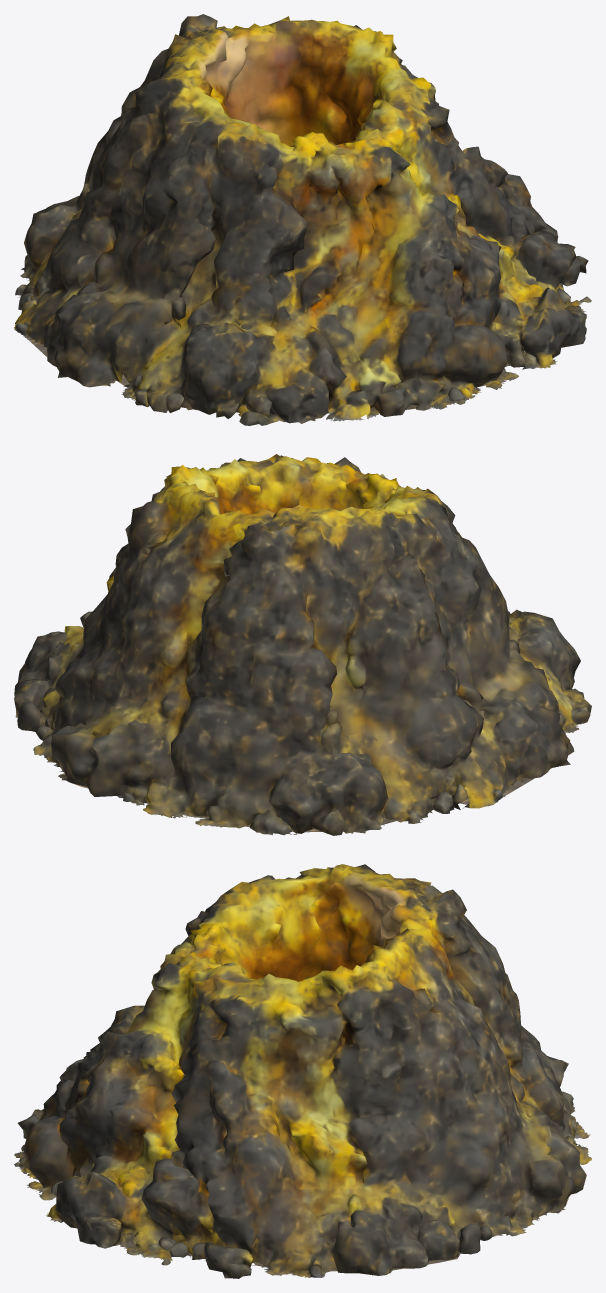
File: volcano_3.glb
The picture shows the model from 3 angles, top to bottom: view 1: azimuth 30°, elevation 25°; view 2: azimuth 150°, elevation 25°; view 3: azimuth 270°, elevation 25°; orthographic projection.
Visible parts, largest first — view 1: geometry_0; view 2: geometry_0; view 3: geometry_0.
Part boxes in pixels (x1,y1,x2,y2): geometry_0: (14, 14, 591, 425); geometry_0: (14, 454, 591, 835); geometry_0: (14, 864, 591, 1278).
Bounding box in the file's own units: 0.9575 × 0.4458 × 0.9302.
1 material, 1 textured.
